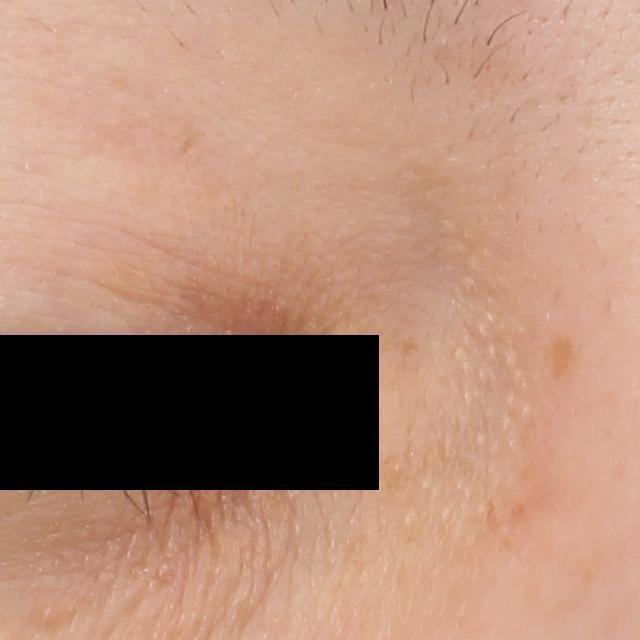melasma: (93, 258, 216, 319), (532, 328, 580, 384)
